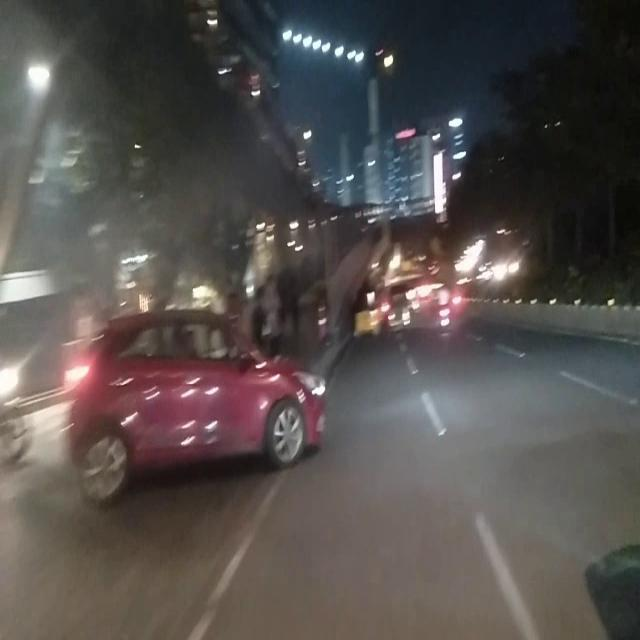car: (56, 304, 332, 506)
road: (0, 450, 638, 640), (324, 335, 640, 447)
